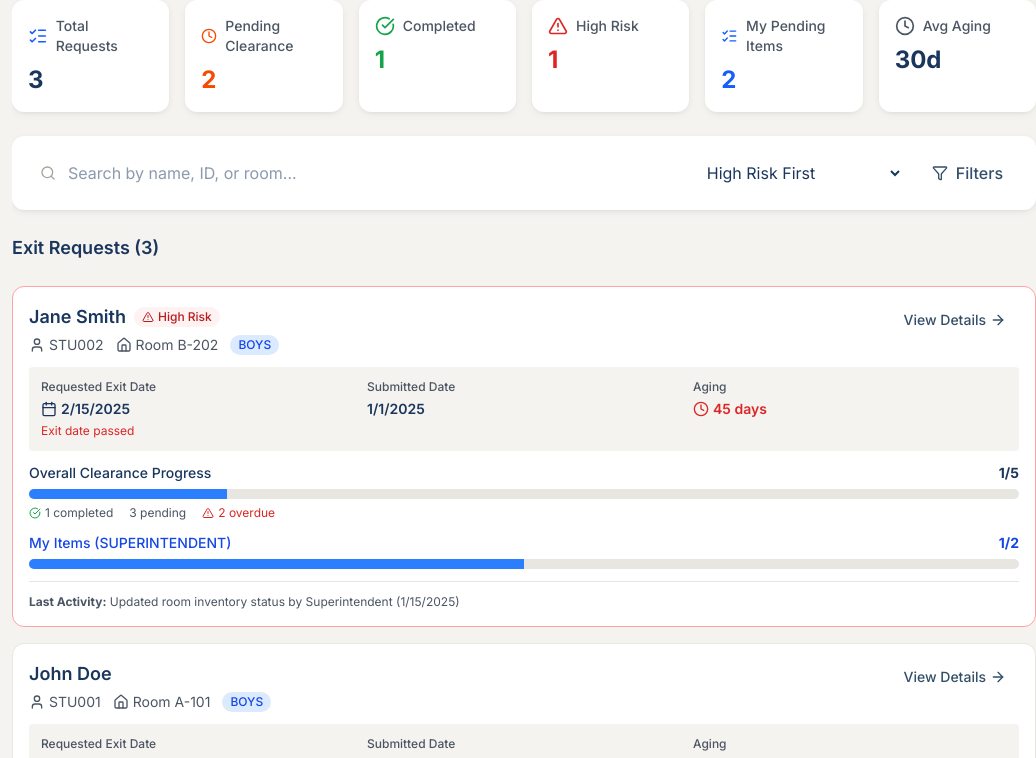
Test: Task 20.3 - Admin Clearance Dashboards › ExitDashboard Component › should show filtered empty state with clear button
Type "nonexistent" into the field with placeholder "Search by name, ID, or room...".
click(359, 173); type("nonexistent")  # box [28,161,691,185]
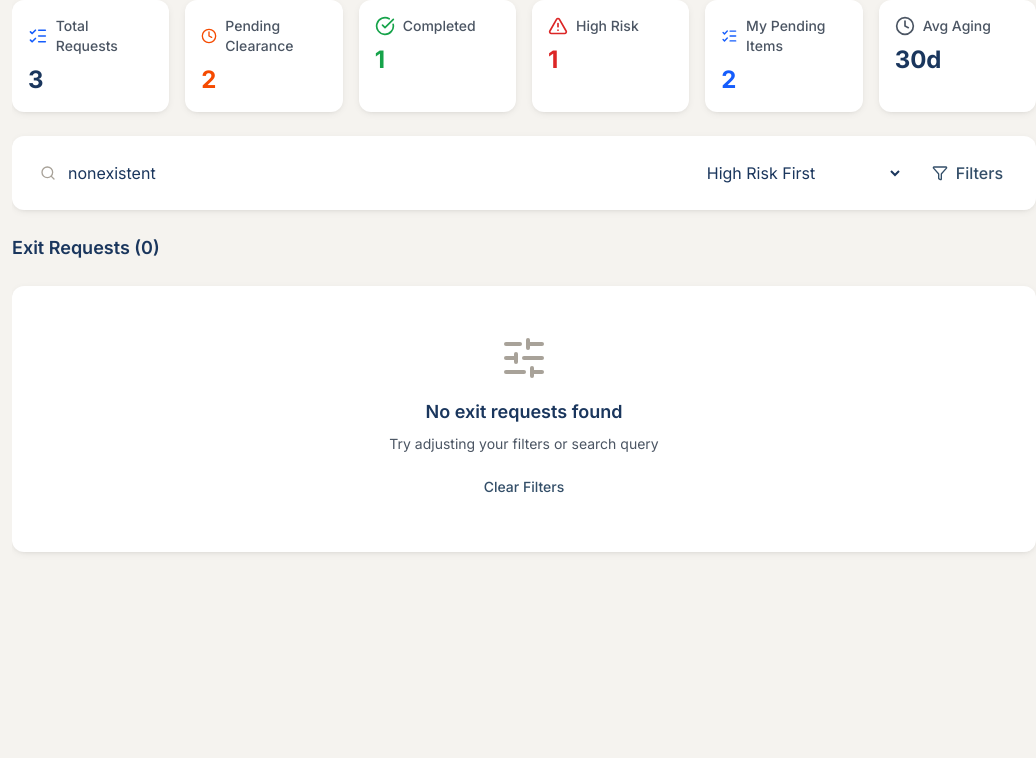
Check: the heading "No exit requests found" is shown, box [426,401,622,422]
Check: the text "Try adjusting your filters or search query" is shown, box [389,435,659,452]
